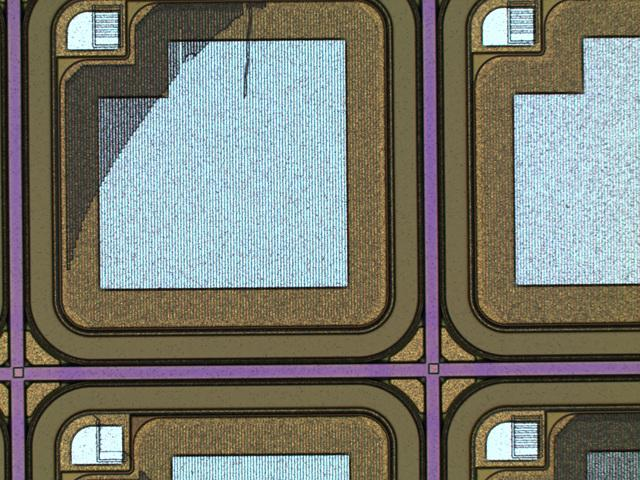COATING BAD: (64, 2, 640, 480)
